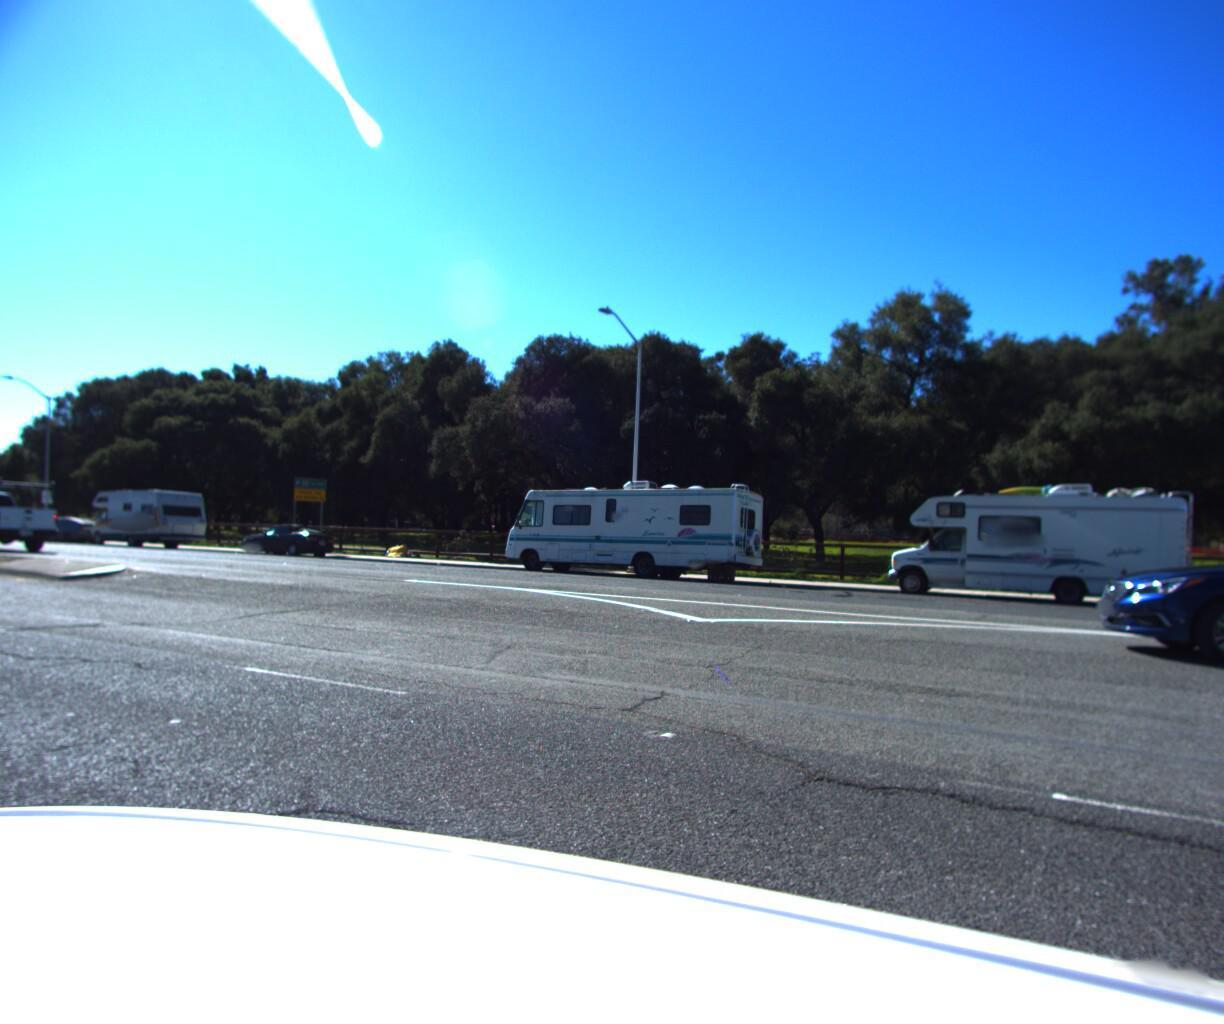car: (1062, 507, 1224, 687), (0, 477, 78, 555), (231, 521, 344, 561), (25, 516, 109, 550)
other_vehicle: (879, 467, 1203, 612), (491, 472, 775, 588), (79, 487, 215, 553)
